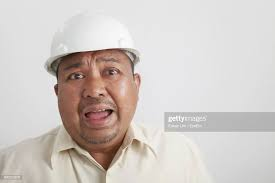Person_wearing_helmet: (41, 4, 141, 97)
